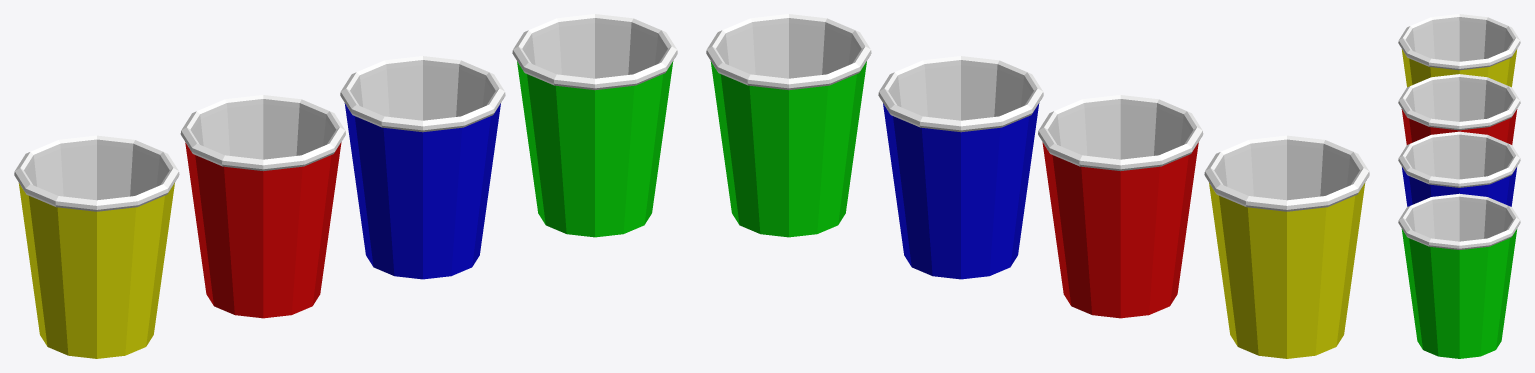
Rendered from cups 2.obj.
3 views of the same model, side by side, from view 1: azimuth 30°, elevation 25°; view 2: azimuth 150°, elevation 25°; view 3: azimuth 270°, elevation 25° (orthographic). The views are drawn at different scales.
Size of the model in its own units: 9.26 by 2.3 by 2.07.
